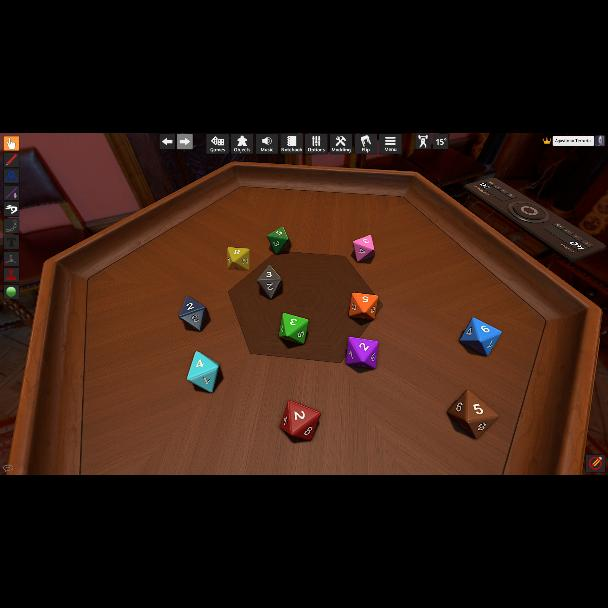d8: (447, 390, 496, 440), (280, 400, 322, 440), (459, 318, 501, 356), (186, 350, 220, 392), (346, 334, 378, 368), (178, 296, 206, 332), (348, 292, 378, 322), (278, 313, 307, 344), (257, 266, 281, 298), (353, 235, 375, 263), (268, 228, 290, 254), (228, 247, 248, 270)
